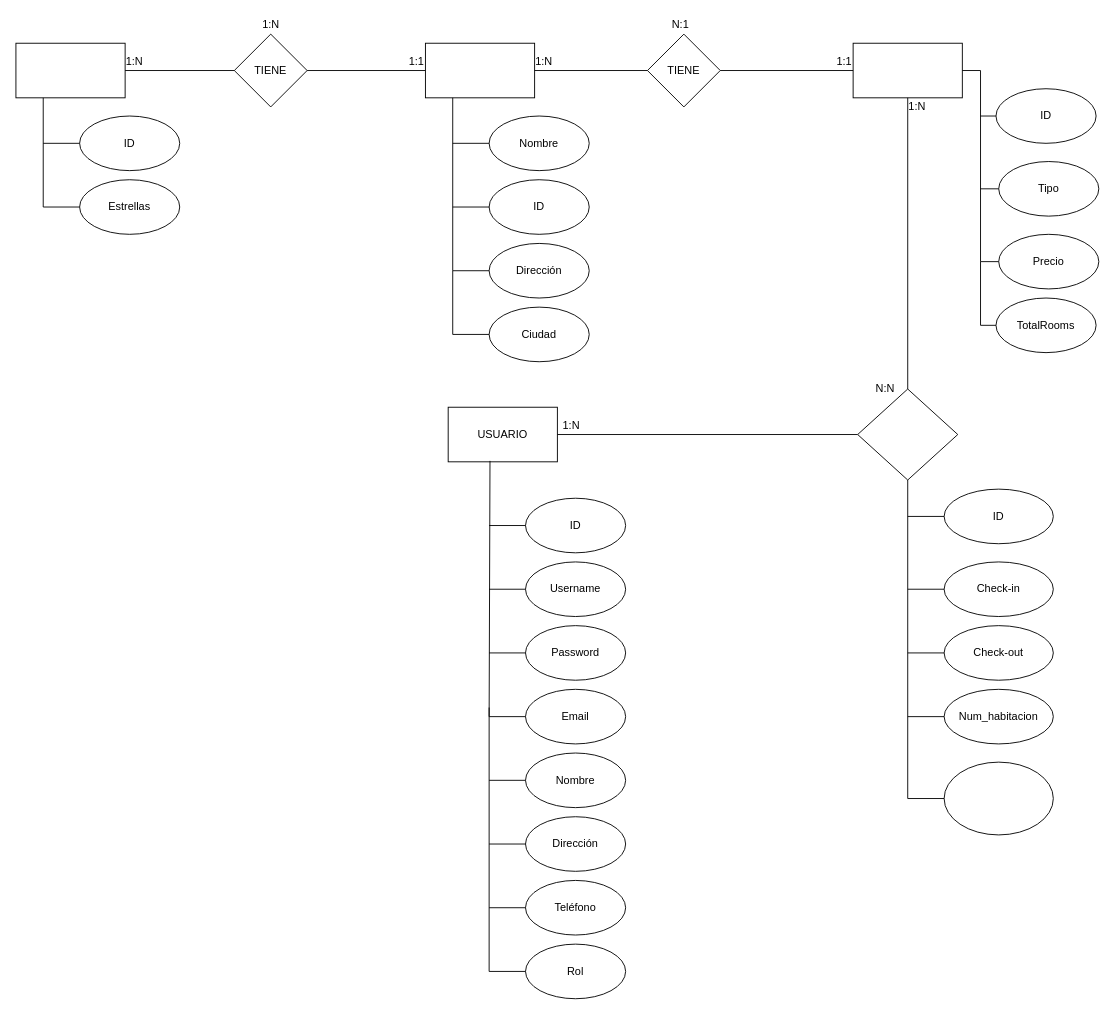
The diagram is 1115 pixels wide and 1015 high, and some of its shapes have lost their labels. The centre of each missing label's shape, as x and y in pixels:
Categoria: the point at 70,70
Estado de pago: the point at 998,798
HABITACION: the point at 907,70
HOTEL: the point at 480,70
RESERVA: the point at 907,434
